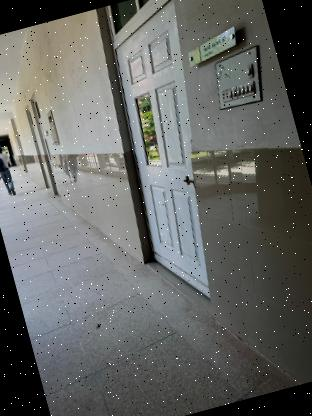door: (70, 0, 261, 322)
